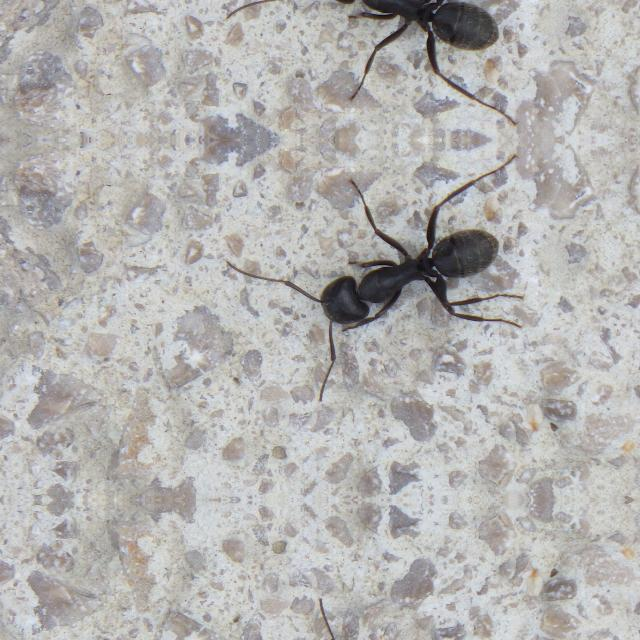Camponotus: (282, 184, 514, 386), (280, 0, 513, 94)
